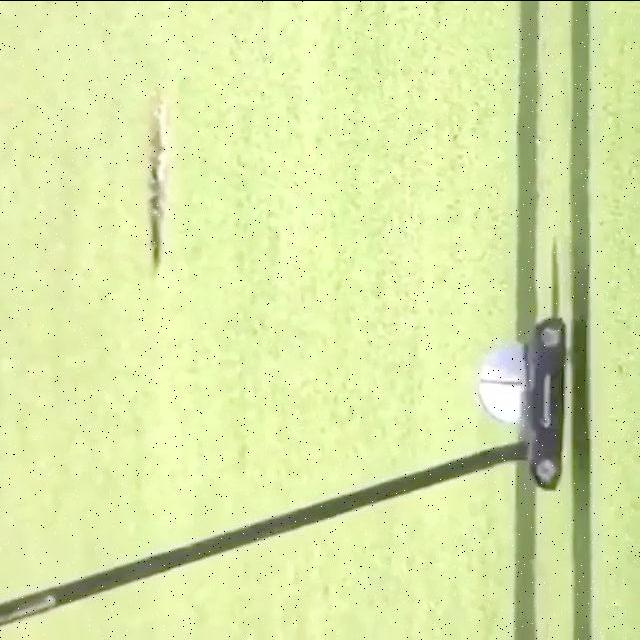golf ball: (470, 341, 523, 428)
golf club-handle: (0, 314, 567, 628)
golf club-head: (512, 319, 571, 482)
